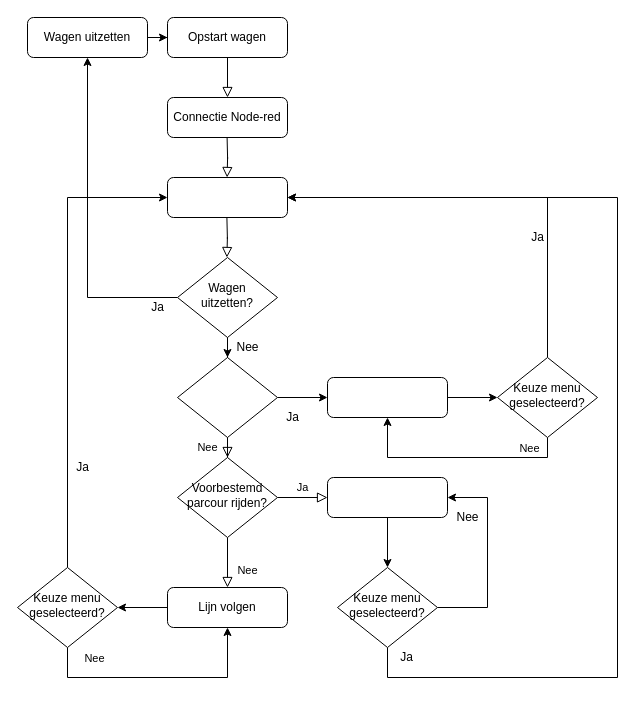
The diagram is 643 pixels wide and 703 high, and some of its shapes have lost their labels. The shapes that lost their labels are listed below. From the top down, each one's centre as x and y in pixels, then its label:
(x=227, y=197): Menu keuze maken
(x=227, y=397): Manueel rijden?
(x=387, y=397): Manuele besturing
(x=387, y=497): Voorbestemd parcour rijden
